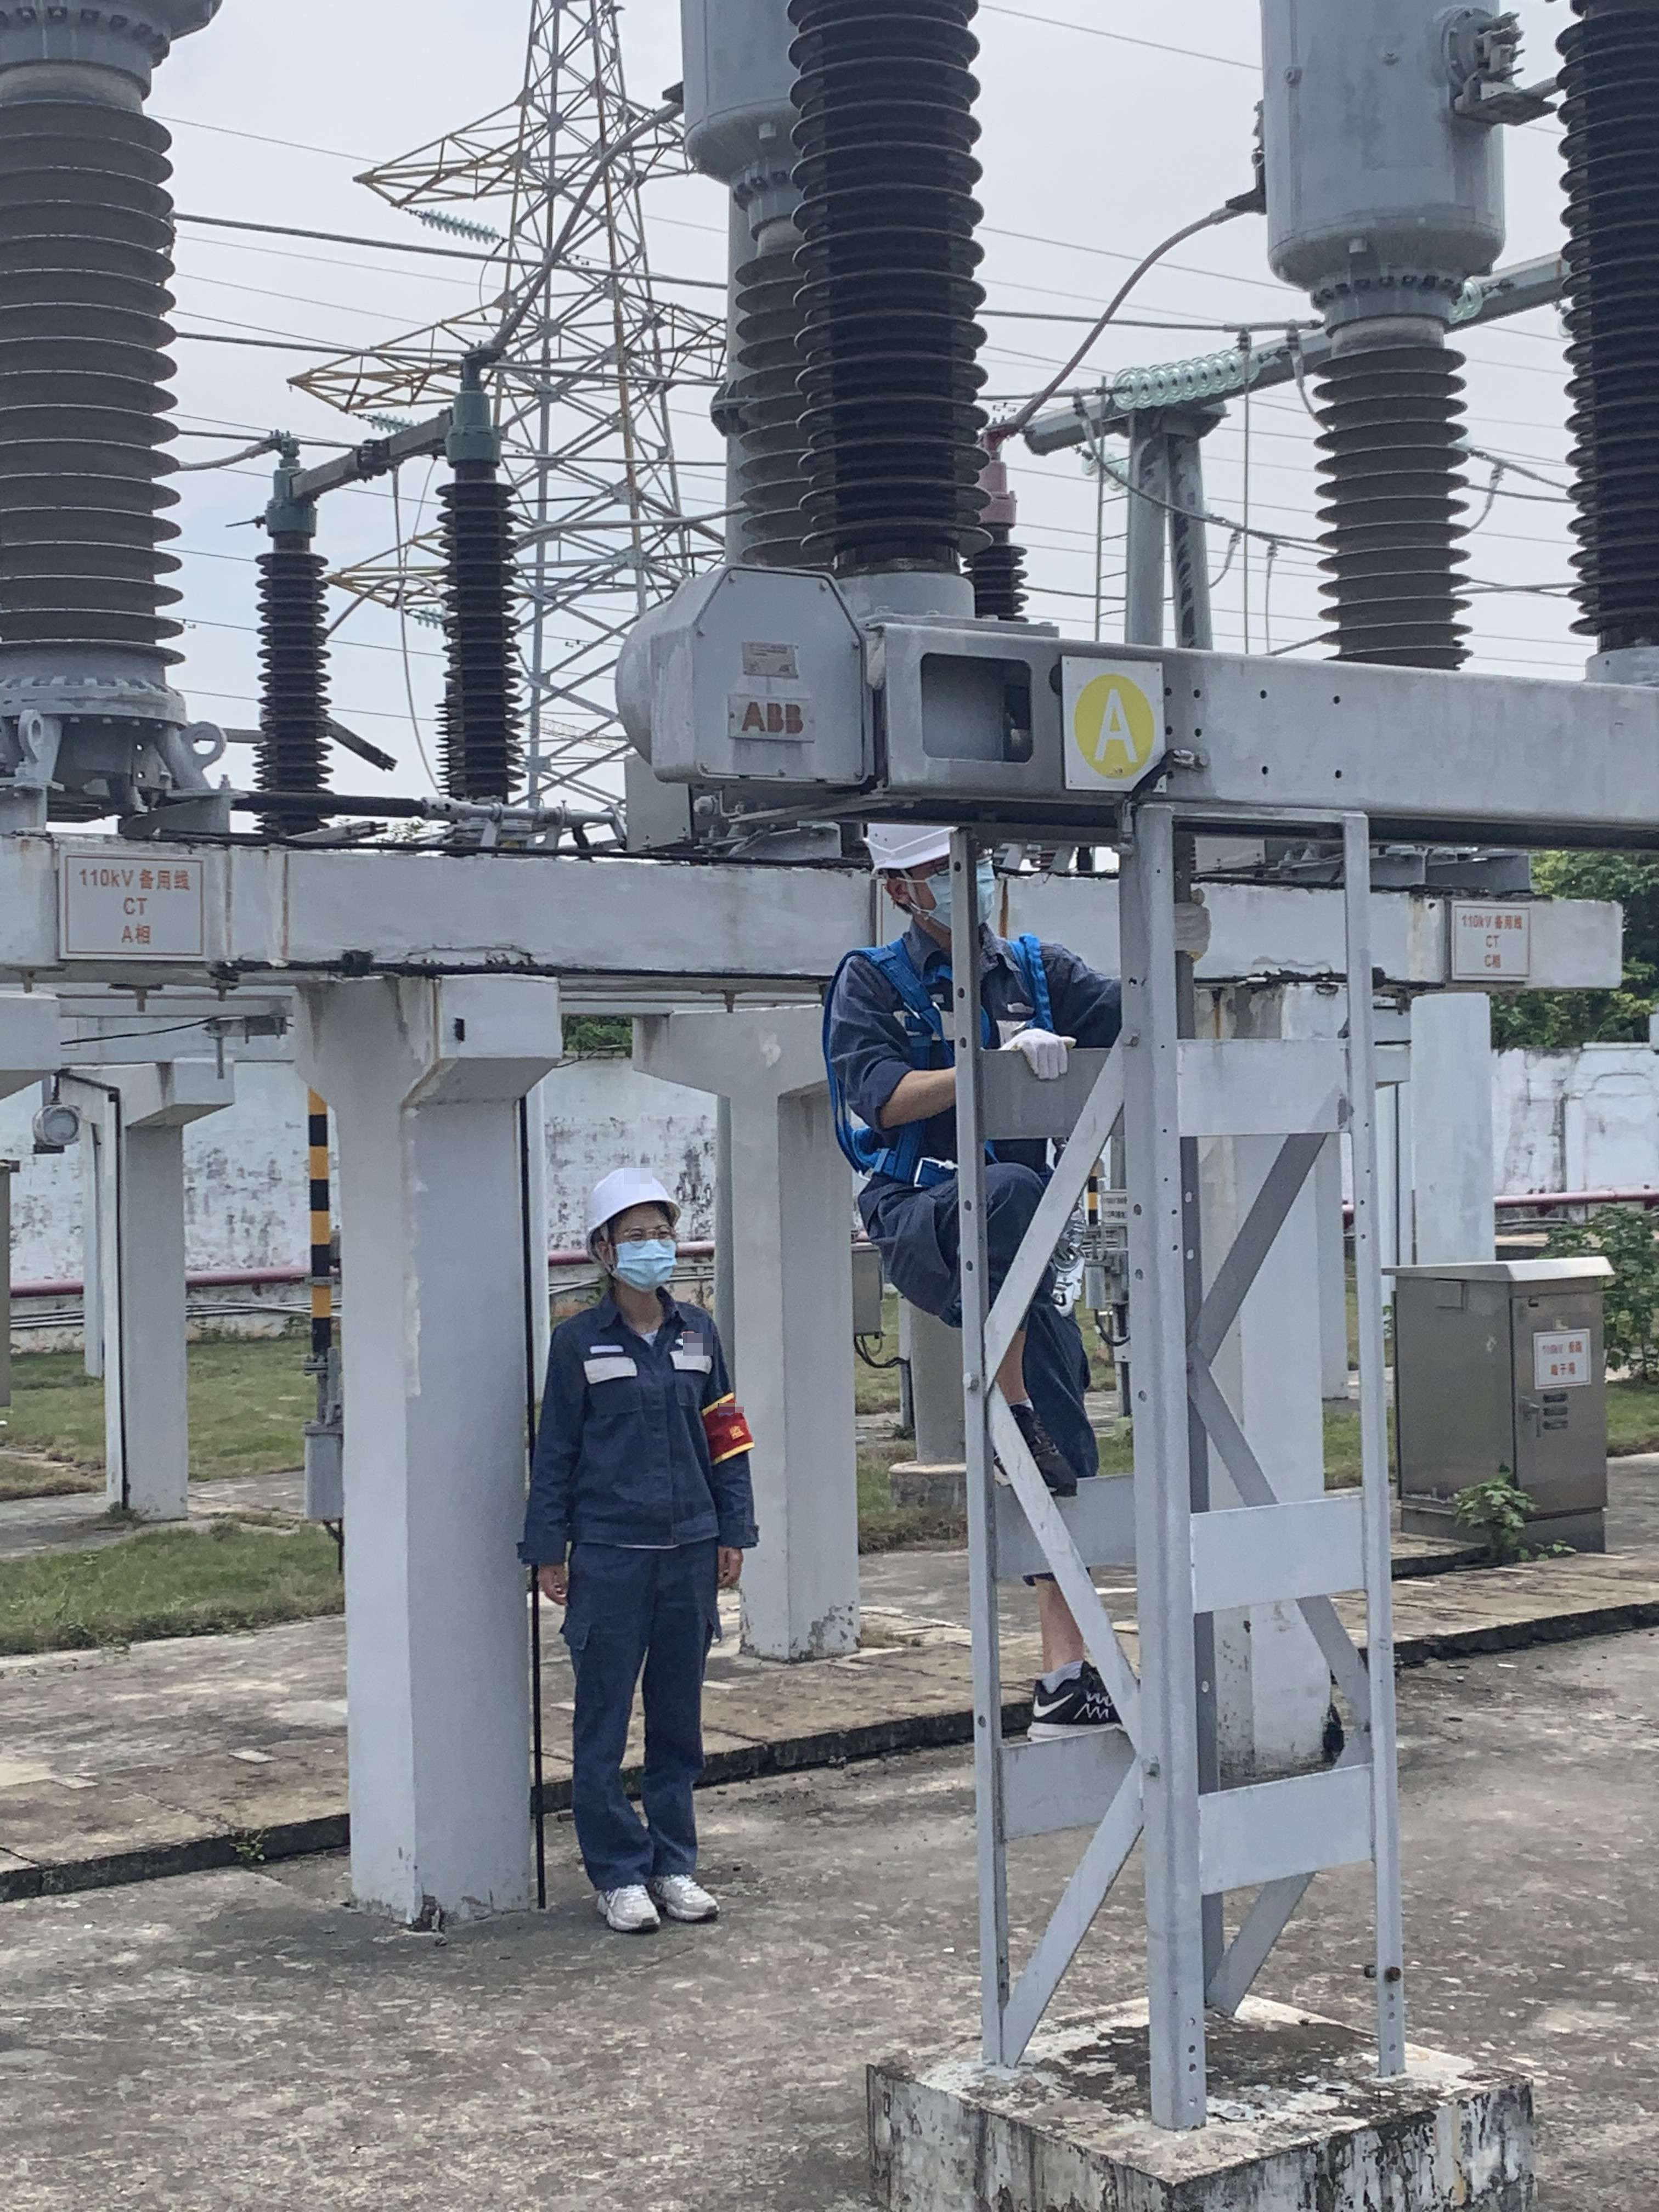downsuit: (863, 1167, 1117, 1730), (554, 1559, 732, 1878)
upsuit: (821, 934, 1121, 1165), (521, 1284, 760, 1543)
wrongbottom: (1023, 1571, 1087, 1674)
wrongtop: (861, 1059, 957, 1130)
